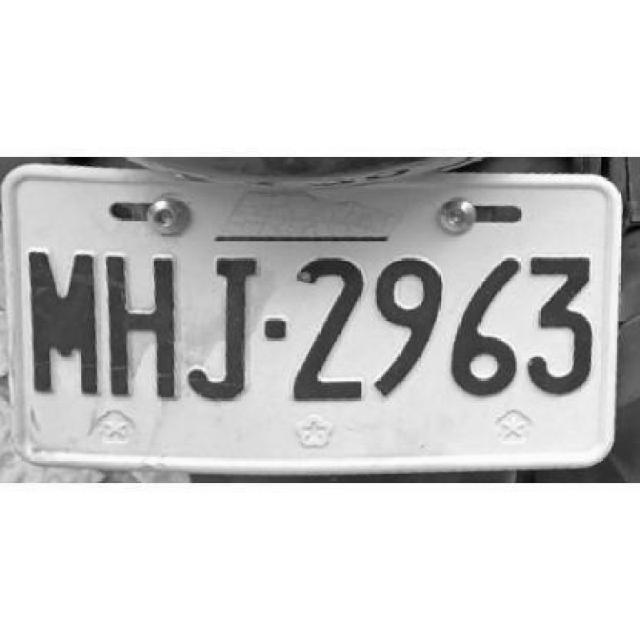-: (264, 302, 288, 344)
2: (289, 254, 365, 401)
3: (526, 252, 594, 394)
6: (444, 250, 522, 402)
9: (366, 252, 443, 400)
H: (105, 252, 180, 400)
J: (186, 257, 260, 403)
M: (28, 248, 98, 397)
